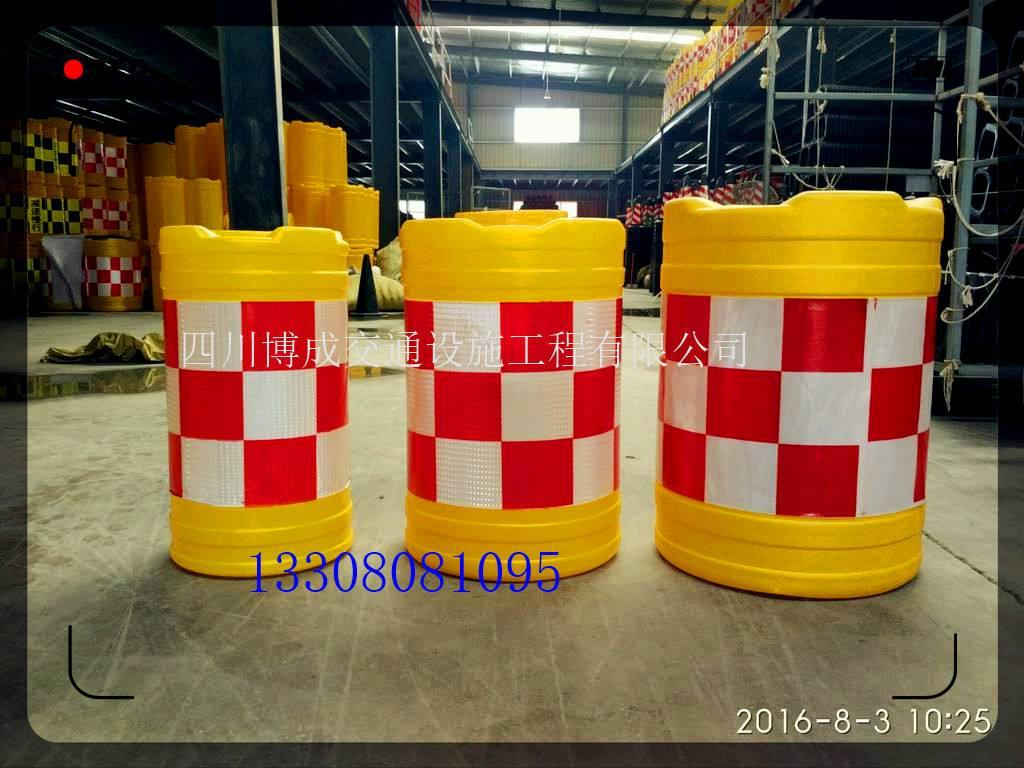sign: (652, 180, 949, 597), (387, 185, 626, 584), (151, 199, 364, 587)
